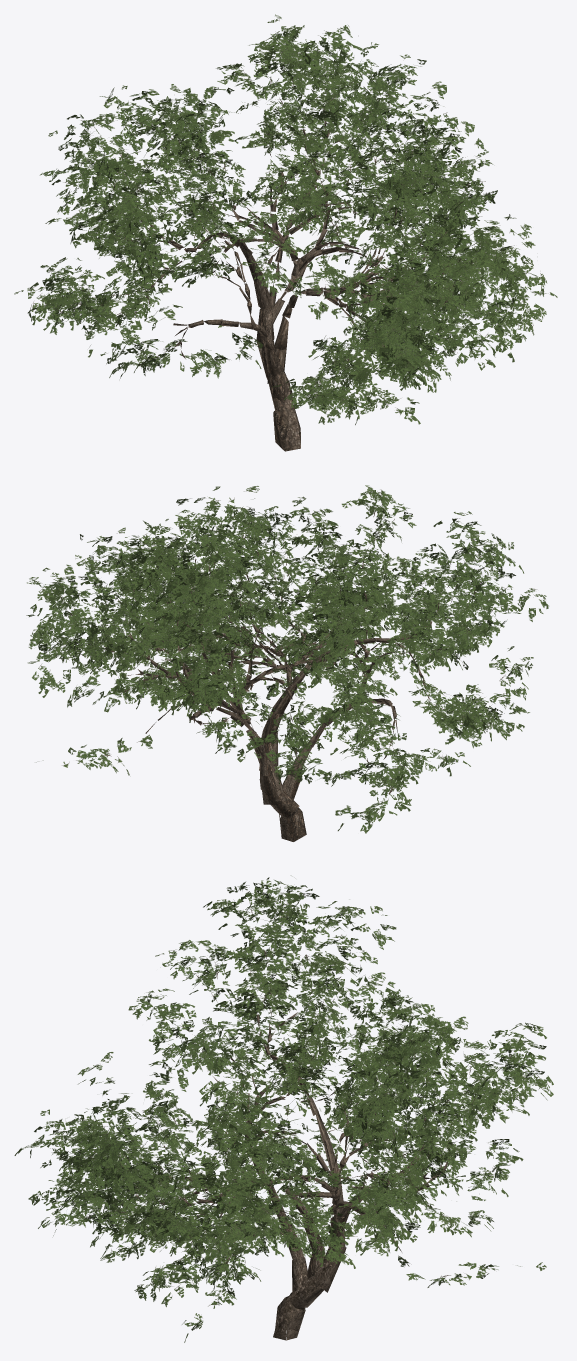
Rendered from liveoak_c.glb.
3 renders of one model, top to bottom at view 1: azimuth 30°, elevation 25°; view 2: azimuth 150°, elevation 25°; view 3: azimuth 270°, elevation 25°, orthographic. The views are drawn at different scales.
Visible parts, largest first — view 1: foliage.002_w; view 2: foliage.002_w; view 3: foliage.002_w.
Boxes of the visible parts, x1,y1,x2,y2 form: foliage.002_w: [14, 14, 557, 451]; foliage.002_w: [26, 485, 548, 841]; foliage.002_w: [14, 875, 553, 1342].
Size of the model in its own units: 16.08 by 11.03 by 14.81.
Materials: 2 (2 with a texture image).
